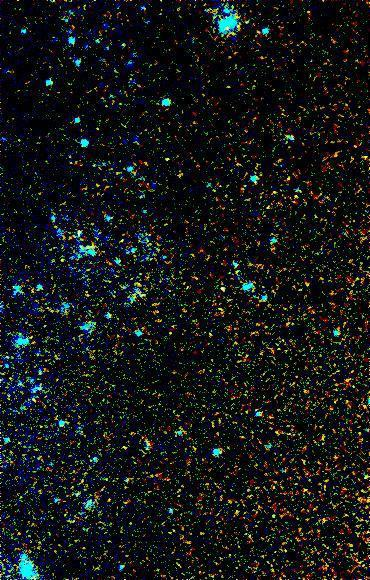star: (152, 141, 182, 171)
